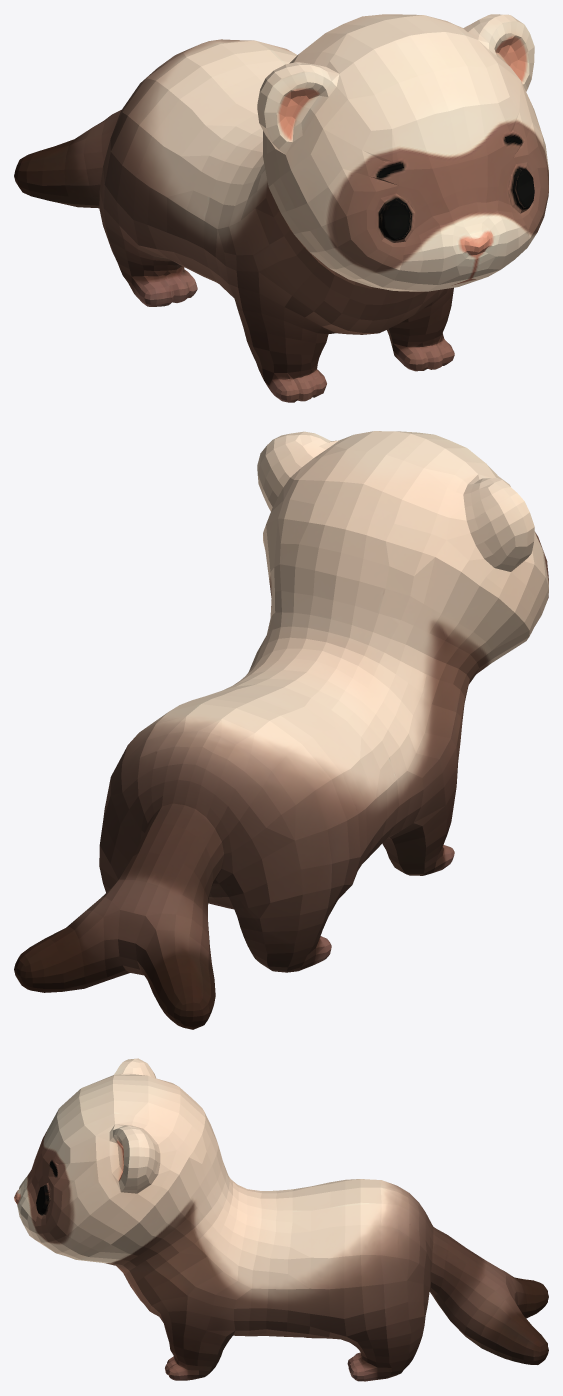
File: ferret.glb
The picture shows the model from 3 angles, top to bottom: view 1: azimuth 30°, elevation 25°; view 2: azimuth 150°, elevation 25°; view 3: azimuth 270°, elevation 25°; orthographic projection. The views are drawn at different scales.
Visible parts, largest first — view 1: Ferret; view 2: Ferret; view 3: Ferret.
Part boxes in pixels (left/top/right/bottom): Ferret: left=14, top=14, right=548, bottom=402; Ferret: left=14, top=431, right=548, bottom=1029; Ferret: left=14, top=1058, right=548, bottom=1381.
Bounding box in the file's own units: 0.7867 × 1.06 × 1.9.
Materials: 1 (1 with a texture image).
